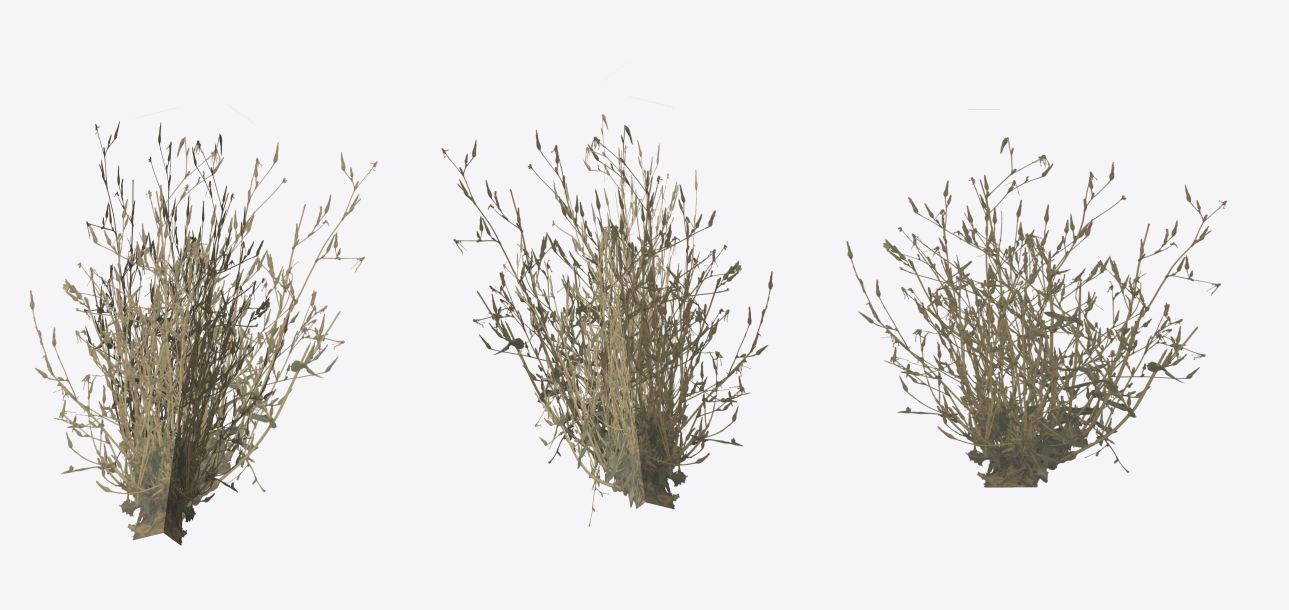
The model's file is heather_fescue_c.glb.
3 views of the same model, side by side, from view 1: azimuth 30°, elevation 25°; view 2: azimuth 150°, elevation 25°; view 3: azimuth 270°, elevation 25° (orthographic). The views are drawn at different scales.
Visible parts, largest first — view 1: Grass 8; view 2: Grass 8; view 3: Grass 8.
Boxes of the visible parts, x1,y1,x2,y2 form: Grass 8: (29,121,377,545); Grass 8: (441,114,772,526); Grass 8: (846,109,1226,487).
Size of the model in its own units: 1.4 by 1.48 by 1.52.
1 material, 1 textured.
